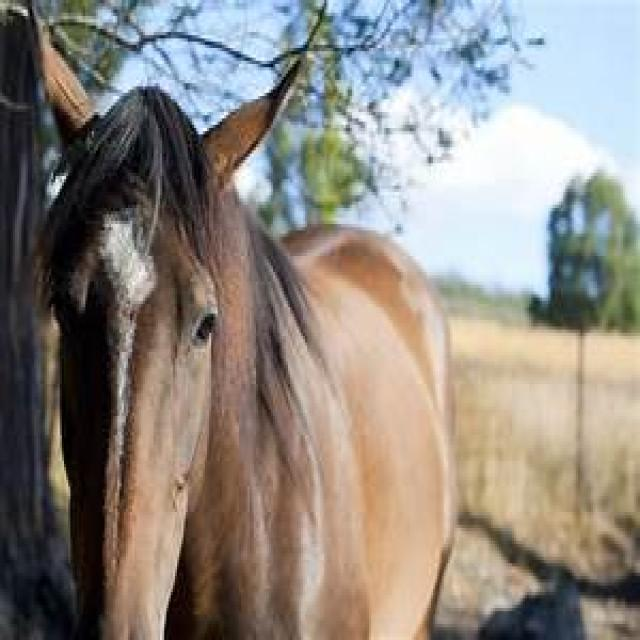horse: (26, 3, 452, 640)
